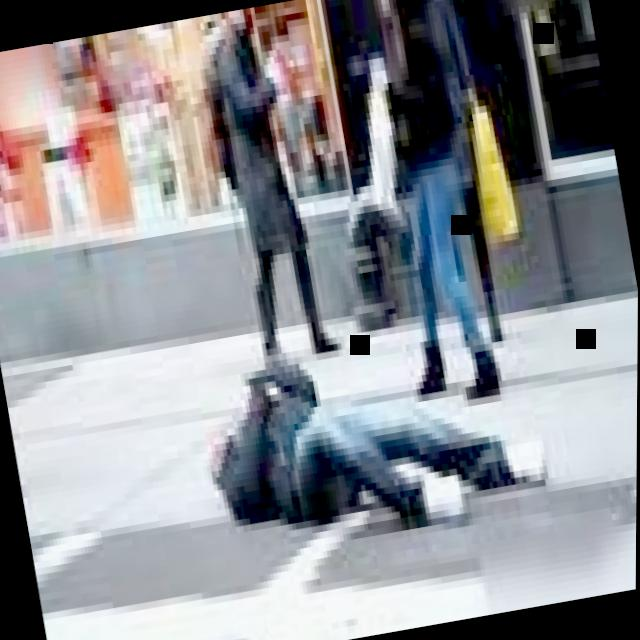Fall-Detected: (172, 274, 552, 570)
